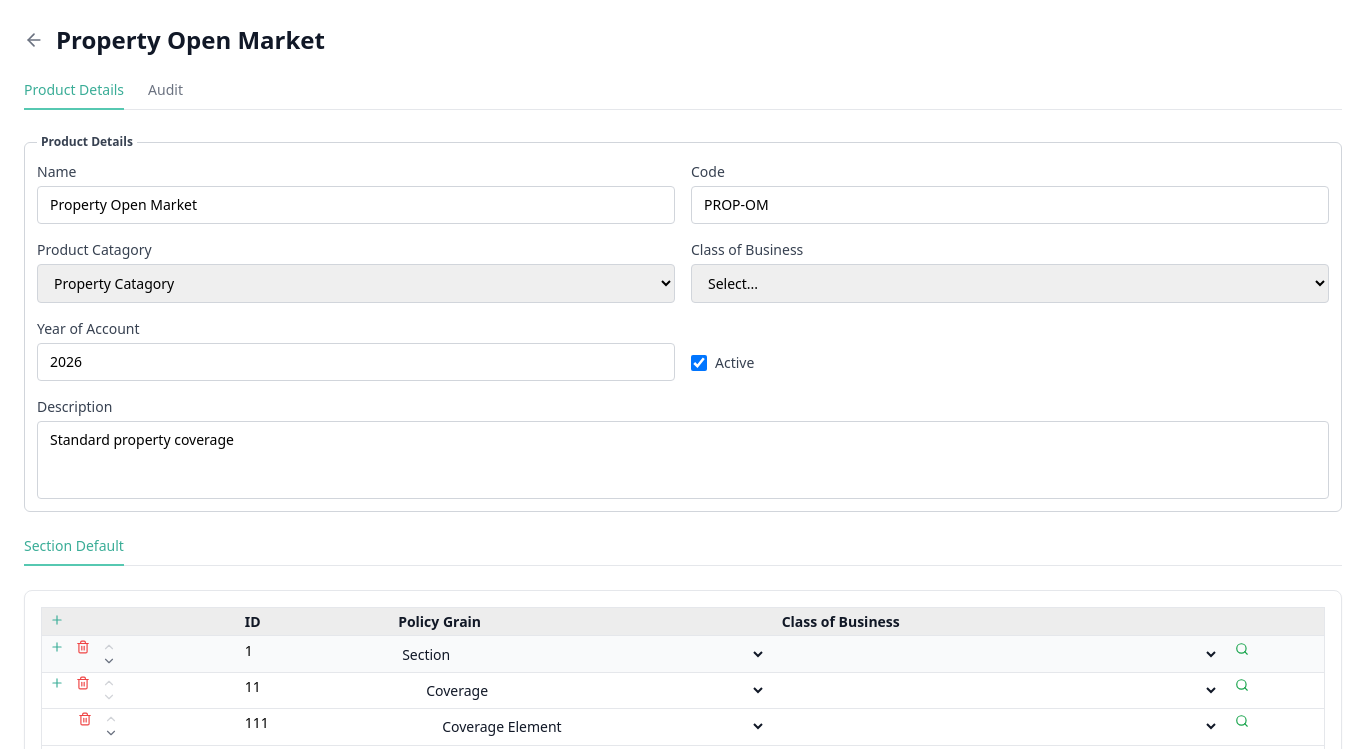
Test case: T-settings-products-R05: Product details tabs and audit history › fetches and displays product audit history on Audit tab click
expect the field showing "Property Open Market" is shown: met, box [37, 186, 675, 224]
Click the button "Audit".
click(166, 95)  # box [148, 80, 183, 110]
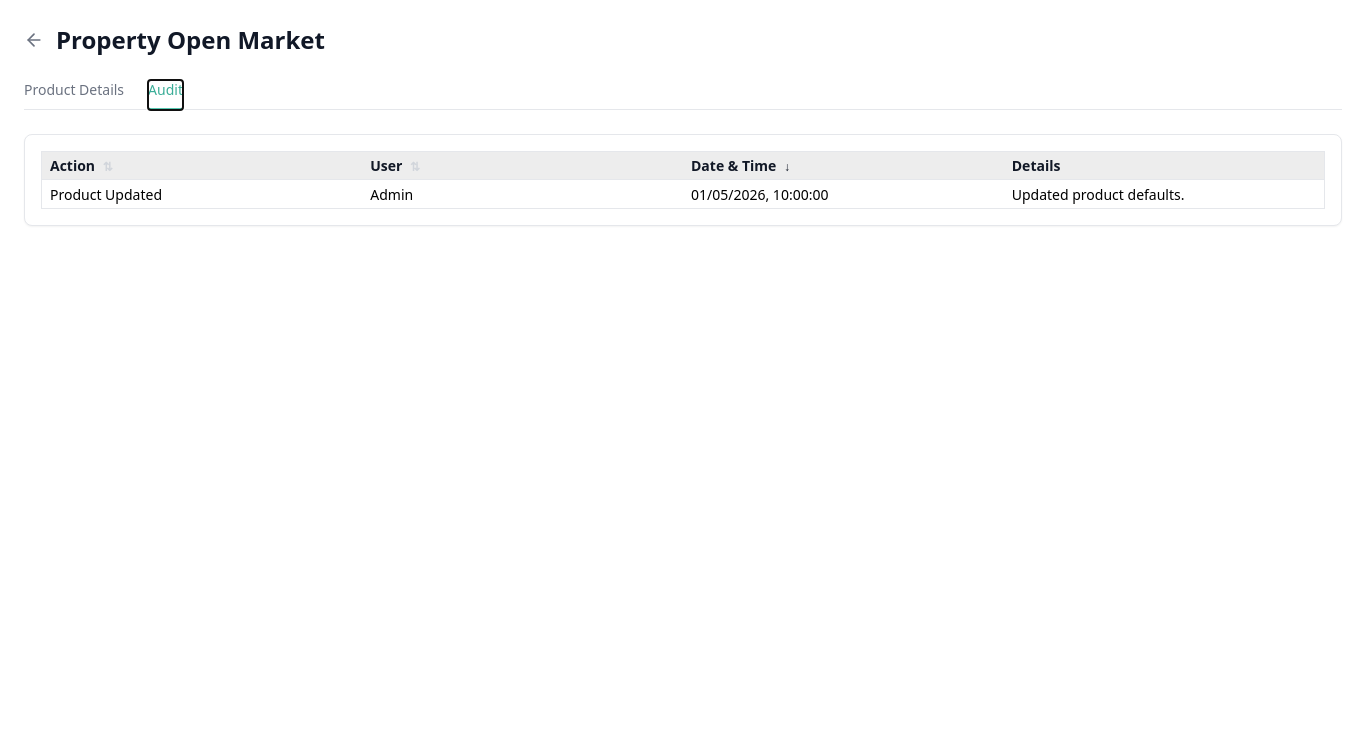
expect the text "Product Updated" is shown: met, box [42, 180, 362, 208]
